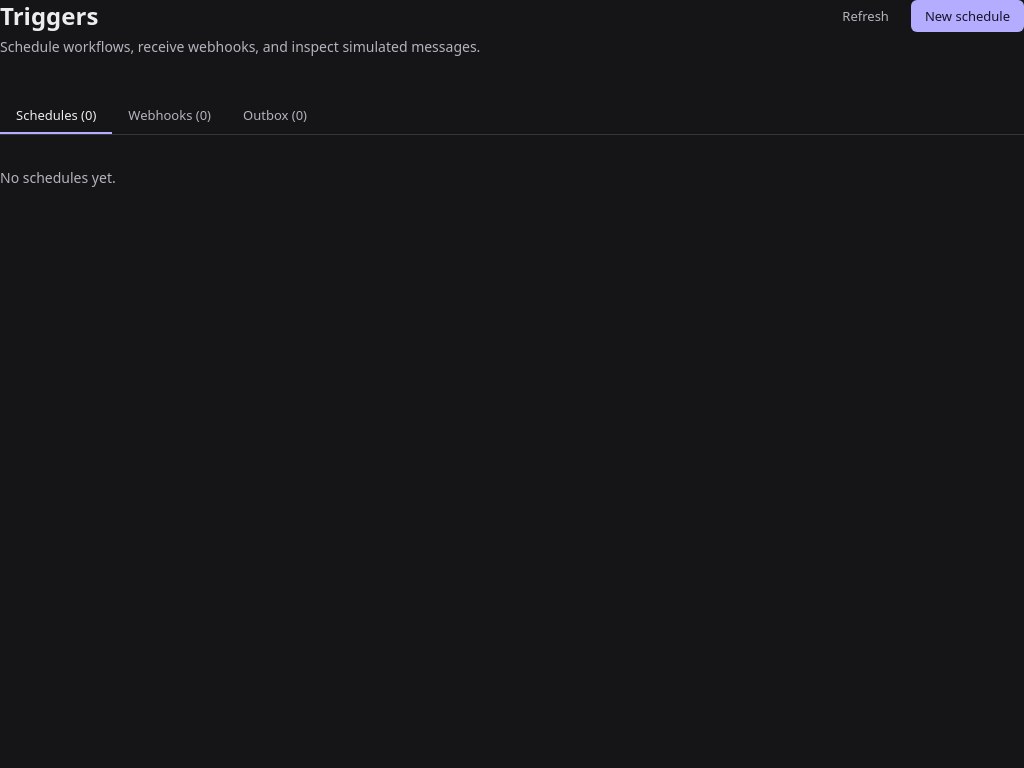
Test: B39: workflow picker in the trigger forms › a failed workflow list shows a formatted error instead of crashing
Click the button with test id "btn-open-create-schedule" at (967, 16), box [911,0,1023,32]
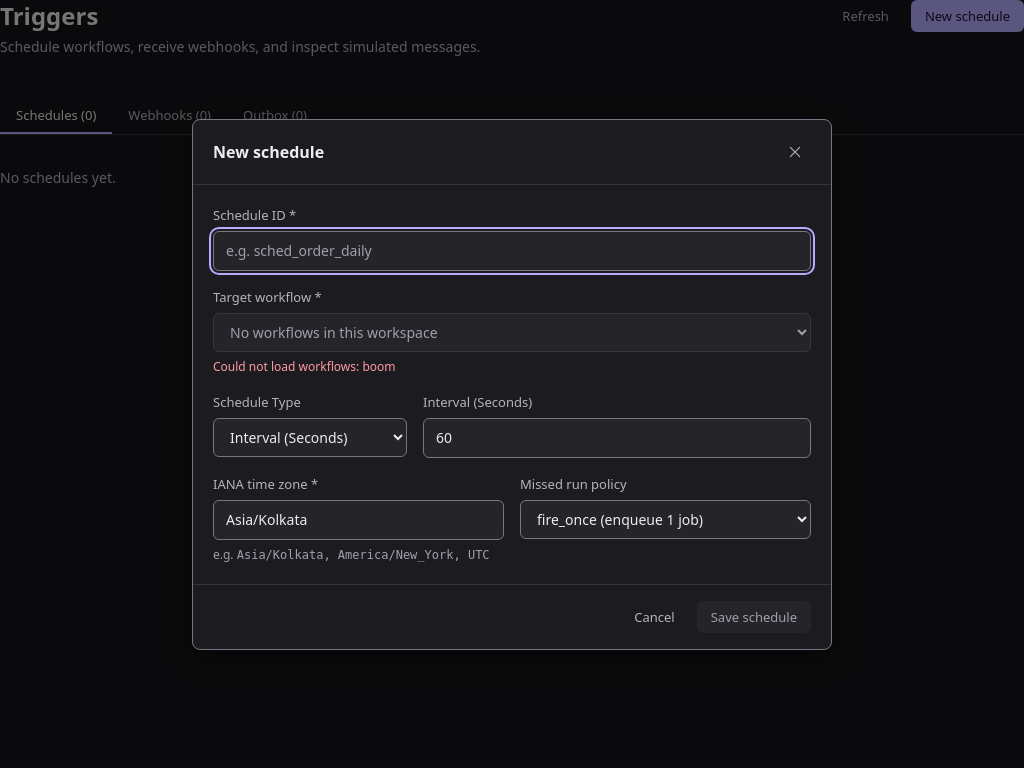
Check: the message reads "Could not load workflows: boom", box [213,358,396,374]
